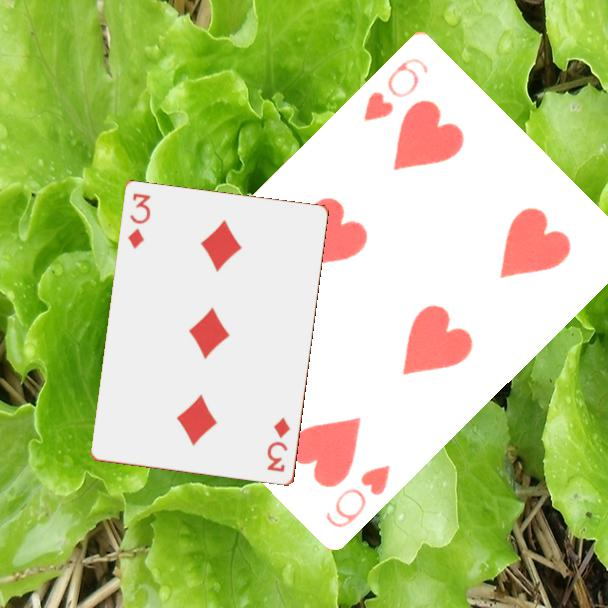d03: (264, 414, 294, 475), (125, 190, 154, 252)
h06: (359, 53, 431, 124), (321, 460, 393, 531)
